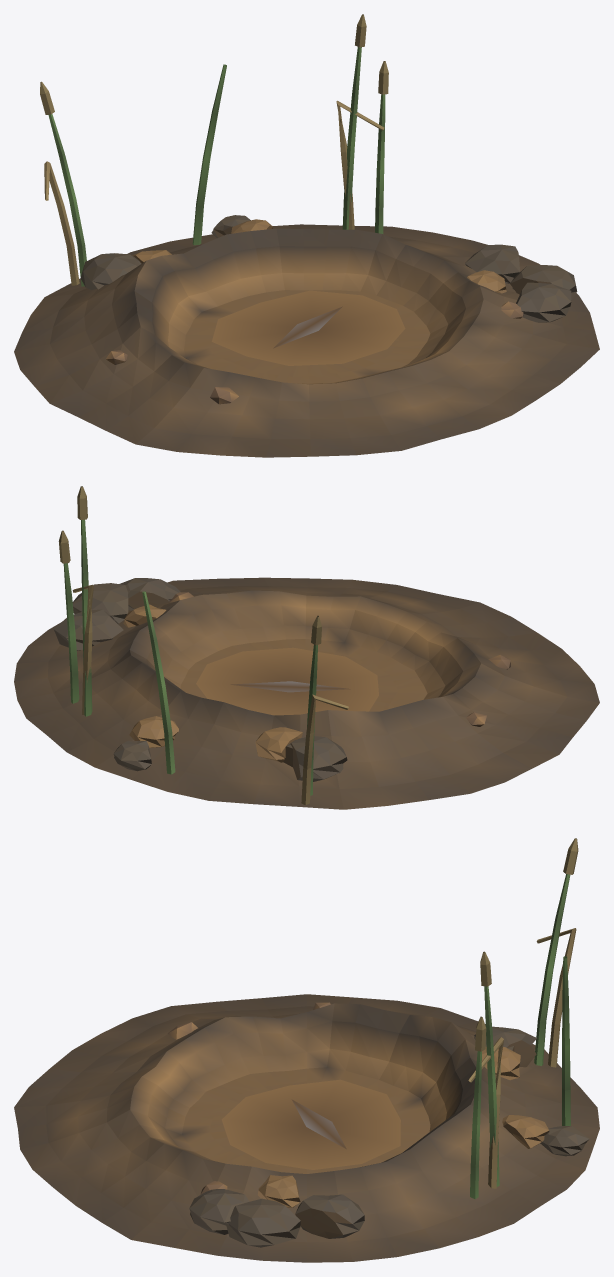
The model's file is bog_iron_dug_a.glb.
The picture shows the model from 3 angles, top to bottom: view 1: azimuth 30°, elevation 25°; view 2: azimuth 150°, elevation 25°; view 3: azimuth 270°, elevation 25°; orthographic projection. The views are drawn at different scales.
Visible parts, largest first — view 1: bog_iron_dug_a; view 2: bog_iron_dug_a; view 3: bog_iron_dug_a.
Boxes of the visible parts, x1,y1,x2,y2 form: bog_iron_dug_a: (14,14,599,457); bog_iron_dug_a: (14,486,599,809); bog_iron_dug_a: (14,838,599,1262).
Size of the model in its own units: 1.04 by 0.4536 by 0.9628.
